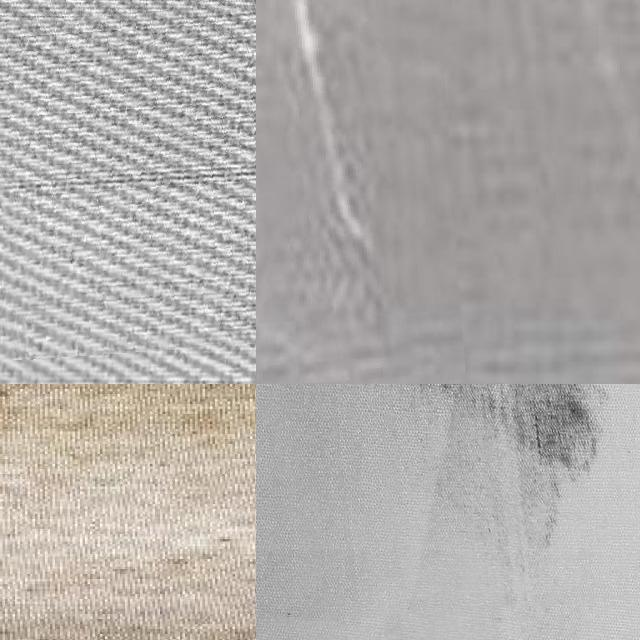Thread_other: (256, 384, 640, 616)
stains: (256, 0, 458, 384)
